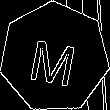M_N: (28, 28, 82, 86)
